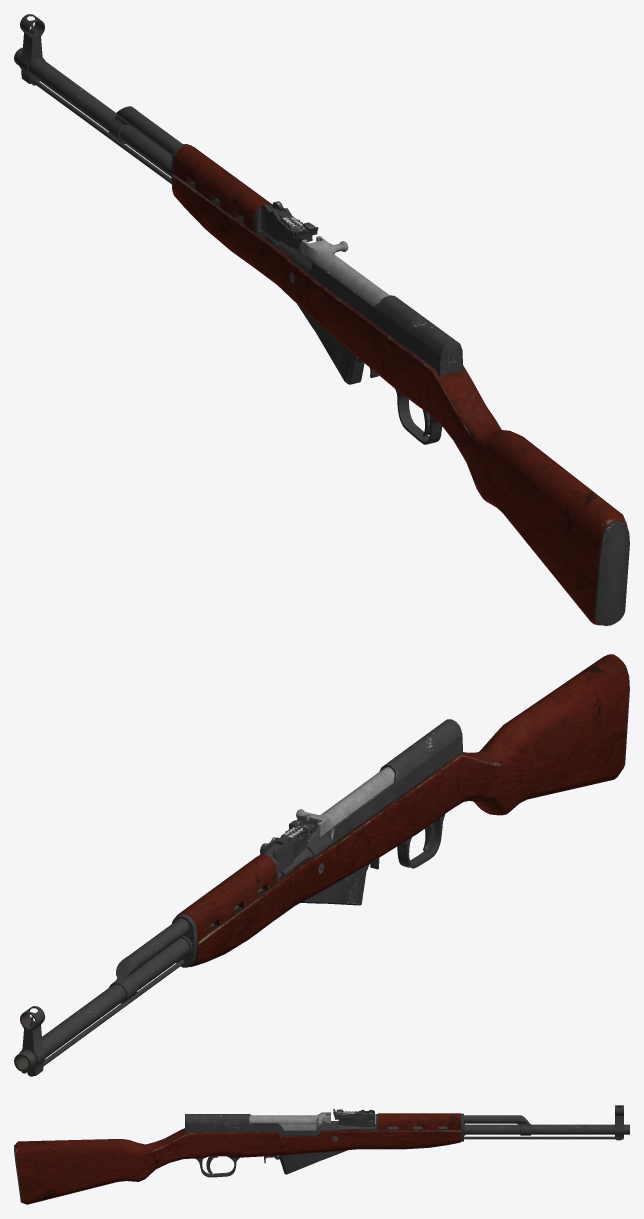
File: sks.glb
3 renders of one model, top to bottom at view 1: azimuth 30°, elevation 25°; view 2: azimuth 150°, elevation 25°; view 3: azimuth 270°, elevation 25°, orthographic. The views are drawn at different scales.
Parts seen in each view (by area): view 1: body, Circle.010, Circle.001, Cube.001, Circle.005, Circle.006, bolt carier, magazine, Cube.002, Cube.006, Circle.000; view 2: body, Circle.010, Circle.001, Circle.005, Circle.006, bolt carier, magazine, Cube.002, Circle.000, Cube.006; view 3: body, Circle.010, Circle.001, Circle.005, bolt carier, magazine, Circle.006, Circle.000, Cube.002, Cube.006.
Part boxes in pixels (bbox=[...]): body: bbox=[172, 174, 627, 625]; Circle.010: bbox=[14, 14, 298, 258]; Circle.001: bbox=[173, 145, 272, 231]; Cube.001: bbox=[594, 520, 629, 625]; Circle.005: bbox=[292, 247, 463, 376]; Circle.006: bbox=[374, 295, 462, 363]; bolt carier: bbox=[301, 236, 389, 305]; magazine: bbox=[297, 304, 364, 384]; Cube.002: bbox=[261, 201, 312, 250]; Cube.006: bbox=[395, 389, 442, 444]; Circle.000: bbox=[31, 78, 171, 183]; body: bbox=[189, 654, 628, 966]; Circle.010: bbox=[14, 832, 326, 1075]; Circle.001: bbox=[176, 854, 277, 941]; Circle.005: bbox=[307, 735, 463, 856]; Circle.006: bbox=[379, 719, 462, 783]; bolt carier: bbox=[296, 767, 394, 836]; magazine: bbox=[301, 865, 367, 905]; Cube.002: bbox=[261, 834, 310, 875]; Circle.000: bbox=[27, 959, 184, 1076]; Cube.006: bbox=[397, 814, 445, 868]; body: bbox=[15, 1124, 460, 1204]; Circle.010: bbox=[317, 1105, 629, 1139]; Circle.001: bbox=[378, 1113, 460, 1130]; Circle.005: bbox=[185, 1121, 338, 1135]; bolt carier: bbox=[249, 1112, 330, 1130]; magazine: bbox=[279, 1150, 346, 1174]; Circle.006: bbox=[185, 1114, 250, 1123]; Circle.000: bbox=[464, 1136, 620, 1140]; Cube.002: bbox=[335, 1109, 374, 1129]; Cube.006: bbox=[196, 1157, 239, 1177].
Size of the model in its own units: 206 by 939 by 5342.
1 material, 1 textured.
